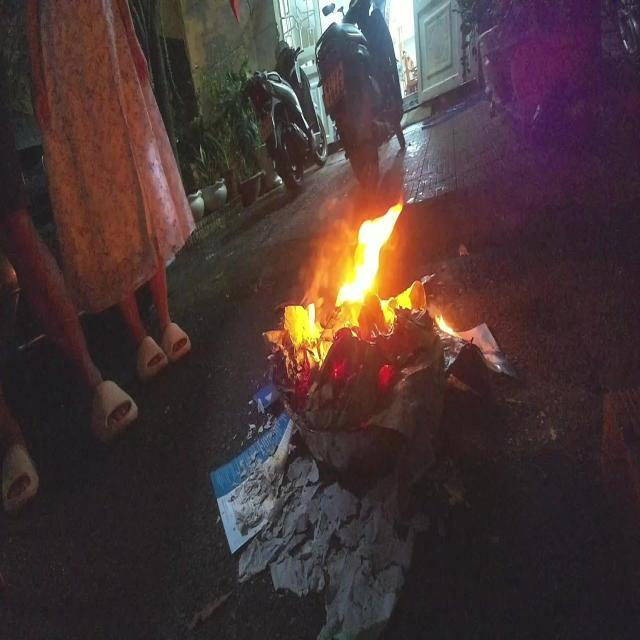Fire: (290, 189, 460, 386)
